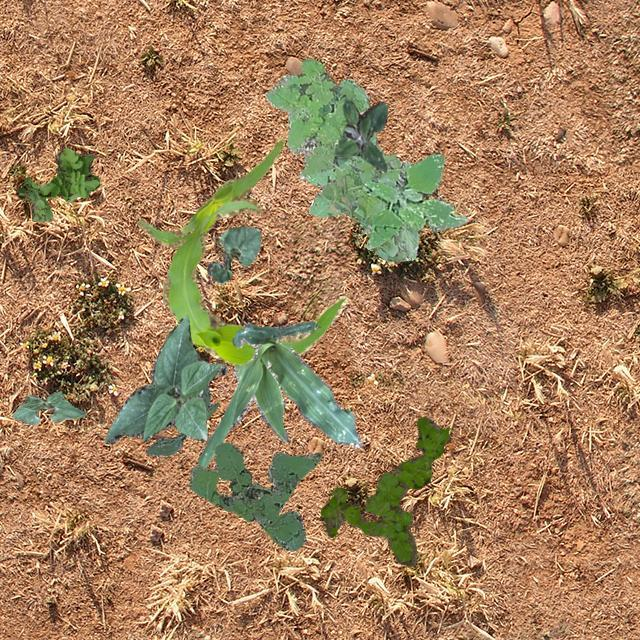crop: (136, 136, 348, 364), (198, 321, 362, 466), (104, 314, 226, 442), (206, 225, 260, 282), (12, 389, 84, 424)
weed: (264, 58, 418, 262), (320, 416, 448, 564), (188, 442, 320, 550), (362, 152, 466, 250), (14, 147, 98, 220), (144, 382, 218, 454), (334, 100, 386, 172)
